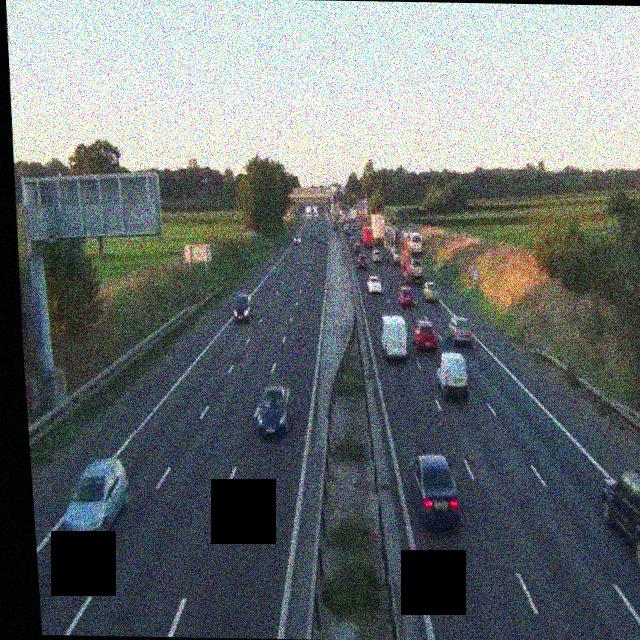car: (59, 455, 133, 548), (597, 468, 640, 570), (408, 453, 462, 530), (254, 383, 294, 438), (434, 351, 470, 400), (412, 319, 439, 351), (446, 316, 474, 346), (231, 292, 255, 324), (421, 282, 439, 304), (399, 286, 414, 306), (367, 274, 382, 294), (357, 252, 369, 268), (373, 248, 383, 262), (351, 240, 361, 253), (294, 233, 301, 244)
truck: (378, 313, 410, 359), (398, 235, 426, 282), (367, 211, 387, 248), (304, 204, 313, 218)
